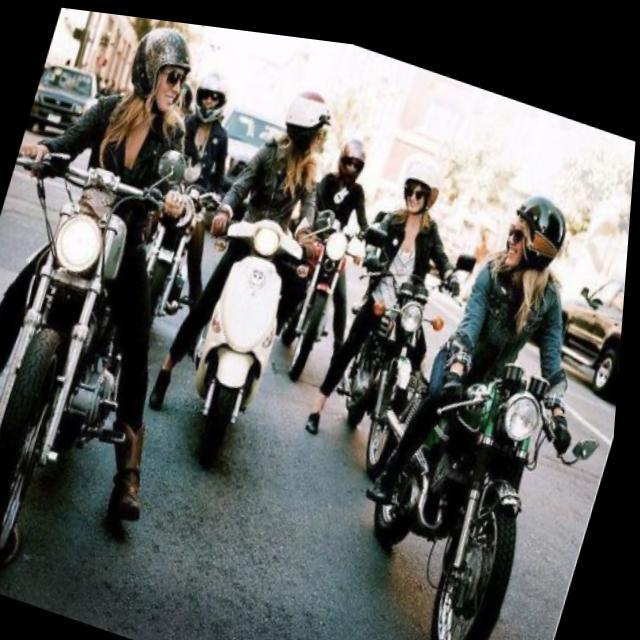Helmet: (130, 16, 194, 128)
